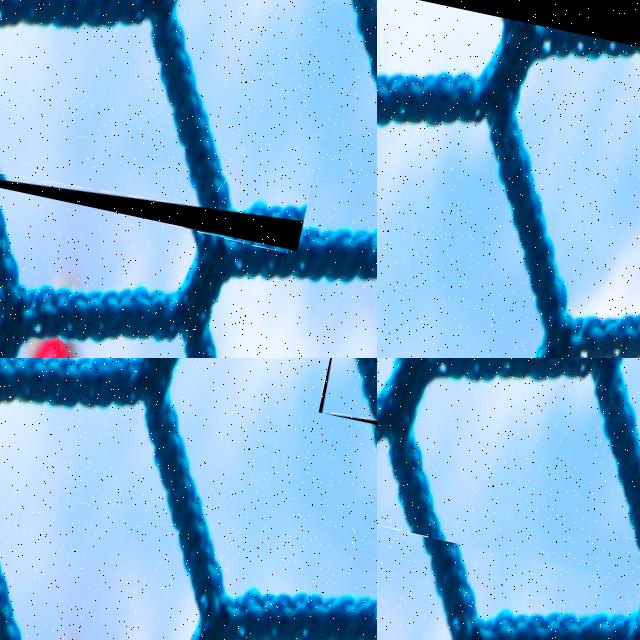drone: (0, 0, 377, 250), (377, 510, 640, 640), (317, 358, 377, 433)
